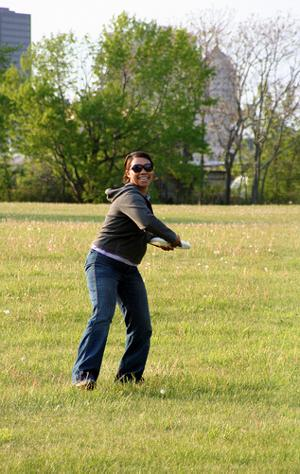person: (71, 150, 184, 393)
